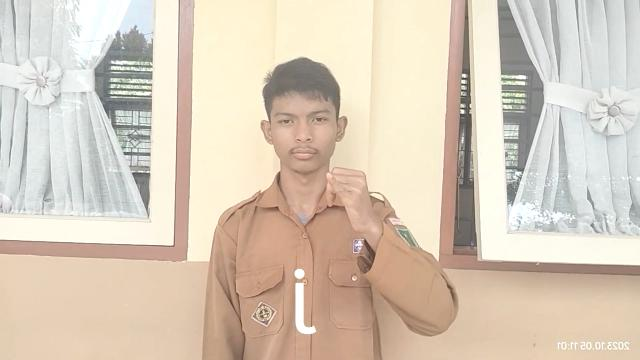J: (318, 161, 378, 234)
